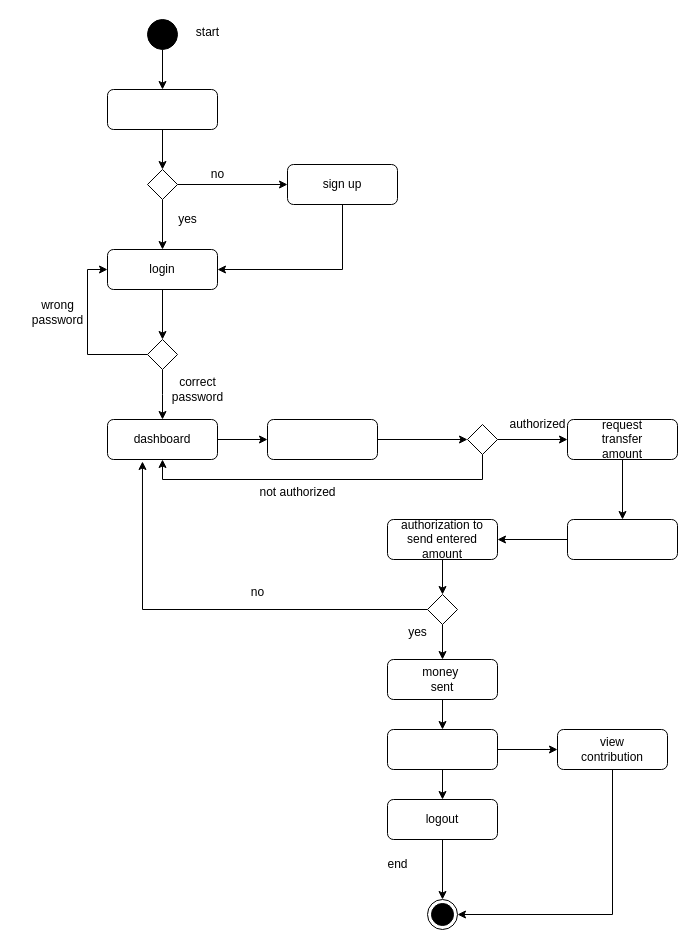
This 695x947 diagram has some shape labels left out. Each missing label, with the centre of its shape:
account exists: (x=162, y=109)
enter amount: (x=622, y=539)
make contribution: (x=322, y=439)
records update: (x=442, y=749)
